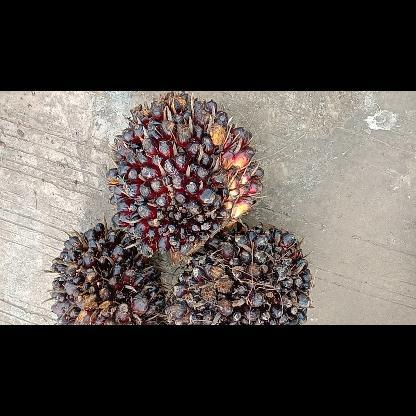TBS mentah: (104, 90, 266, 264), (163, 222, 313, 324), (47, 220, 170, 324)
